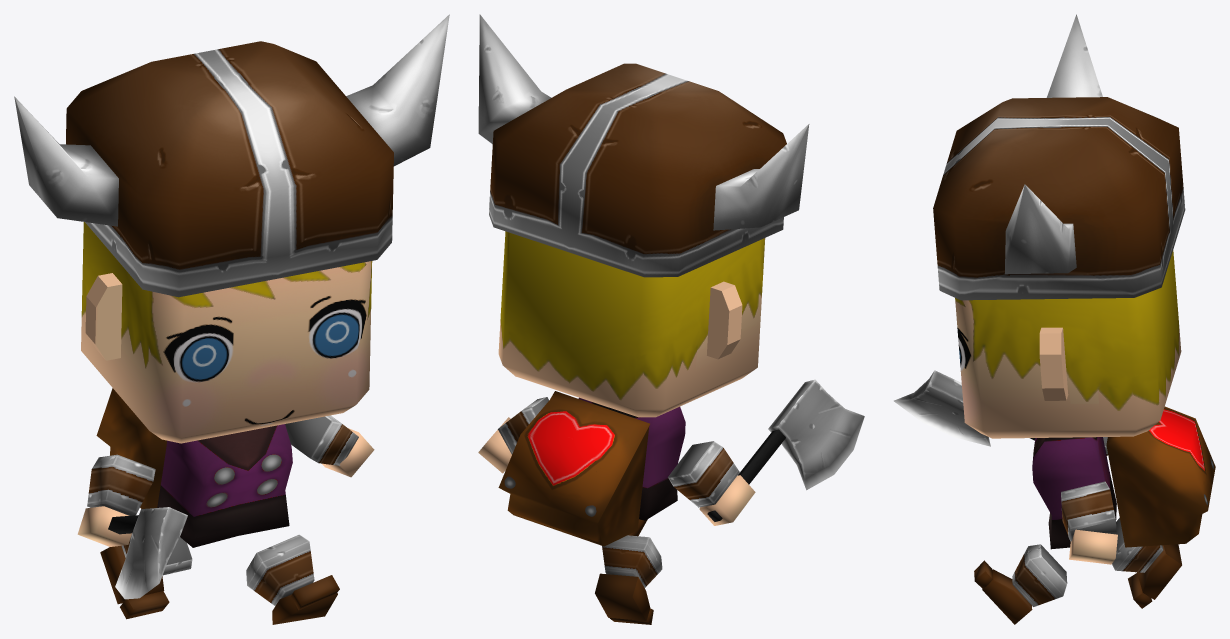
The model's file is mini_knight_fem_000006.obj.
3 renders of one model, left to right at view 1: azimuth 30°, elevation 25°; view 2: azimuth 150°, elevation 25°; view 3: azimuth 270°, elevation 25°, orthographic. The views are drawn at different scales.
Parts seen in each view (by area): view 1: cap_Object01, Mesh_objheadusOBJexport, axe_Object02, back_Object03; view 2: cap_Object01, Mesh_objheadusOBJexport, back_Object03, axe_Object02; view 3: cap_Object01, Mesh_objheadusOBJexport, back_Object03, axe_Object02.
Part boxes in pixels (x1,y1,x2,y2): cap_Object01: (14,14,449,297); Mesh_objheadusOBJexport: (77,222,374,624); axe_Object02: (108,507,187,599); back_Object03: (96,388,166,508); cap_Object01: (478,14,809,277); Mesh_objheadusOBJexport: (478,231,765,624); back_Object03: (498,391,649,546); axe_Object02: (707,379,864,521); cap_Object01: (933,14,1185,300); Mesh_objheadusOBJexport: (955,250,1181,624); back_Object03: (1106,406,1215,547); axe_Object02: (894,370,1035,446).
Bounding box in the file's own units: 1.83 × 2.55 × 1.43.
